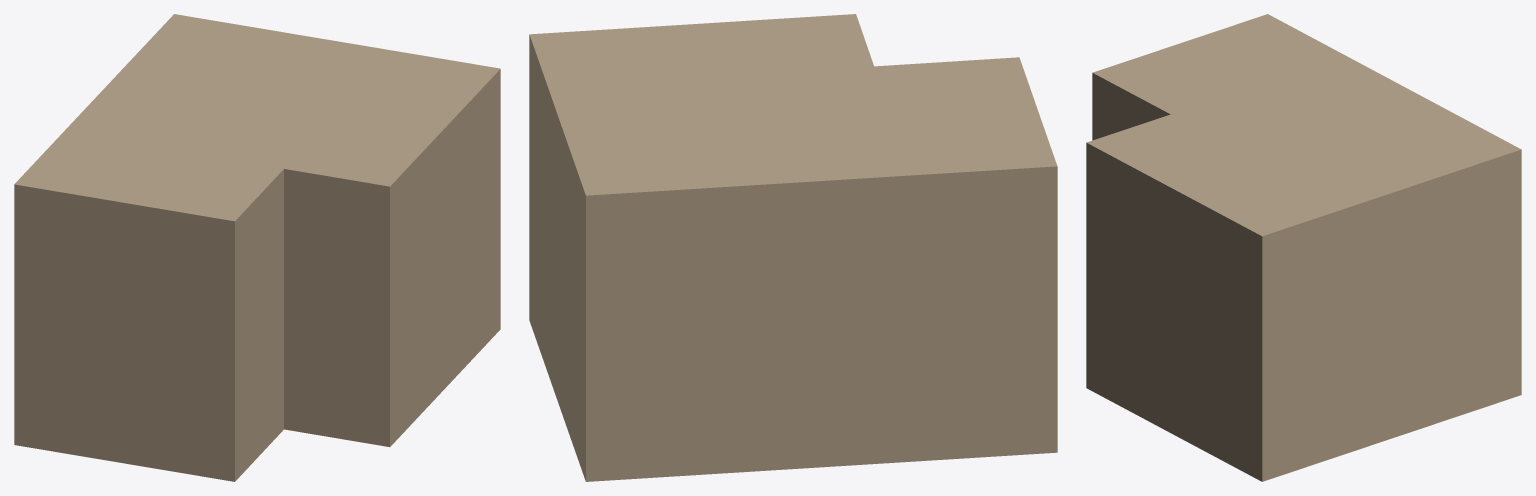
The model's file is bld_158045404.dae.
3 renders of one model, left to right at view 1: azimuth 30°, elevation 25°; view 2: azimuth 150°, elevation 25°; view 3: azimuth 270°, elevation 25°, orthographic. The views are drawn at different scales.
Parts seen in each view (by area): view 1: bld_158045404; view 2: bld_158045404; view 3: bld_158045404.
Part boxes in pixels (<box>): bld_158045404: <box>14,14,500,481</box>; bld_158045404: <box>529,14,1057,481</box>; bld_158045404: <box>1086,14,1521,481</box>.
Bounding box in the file's own units: 15.54 × 12.85 × 8.
